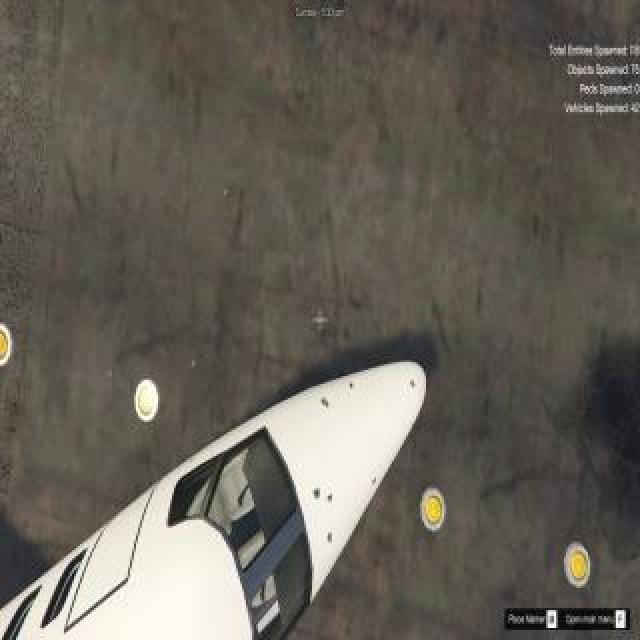crack: (320, 393, 334, 413), (313, 484, 325, 502), (328, 530, 336, 548), (327, 490, 335, 504), (409, 379, 419, 389), (371, 476, 379, 486), (350, 381, 356, 391)
